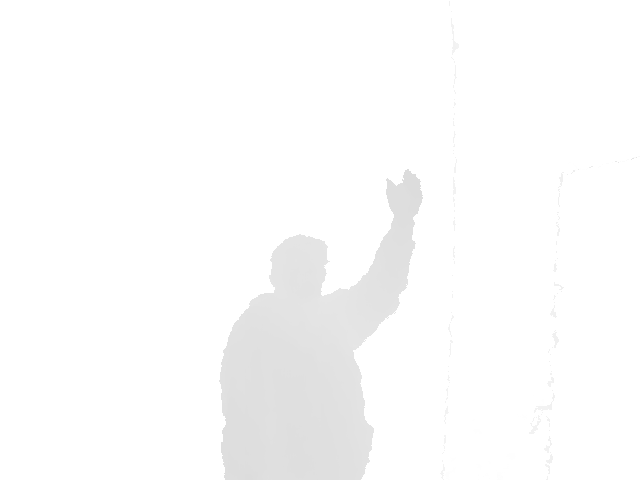hand: (383, 168, 424, 219)
head: (269, 234, 329, 300)
person: (218, 168, 424, 480)
